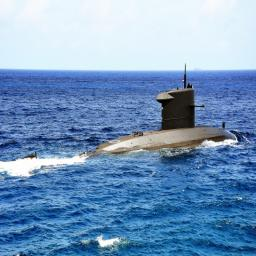submarine: (31, 90, 243, 168)
